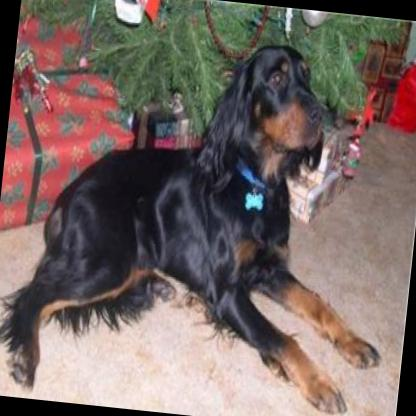Gordon_setter: (0, 14, 413, 416)
